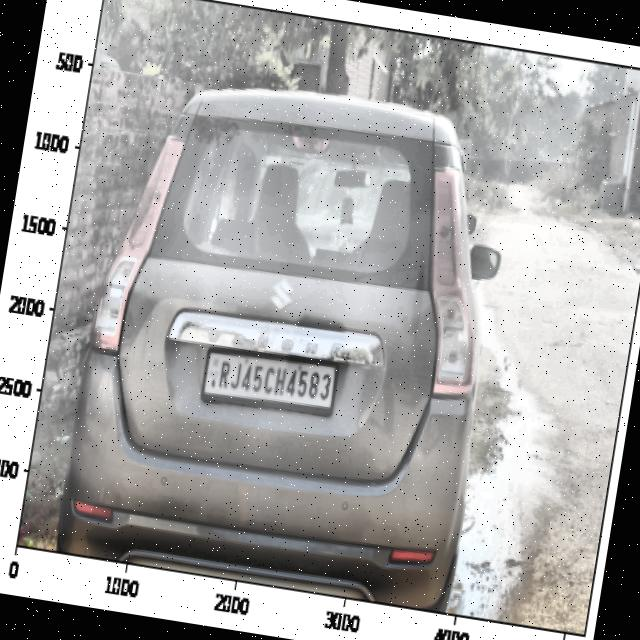license_plate: (211, 352, 338, 413)
